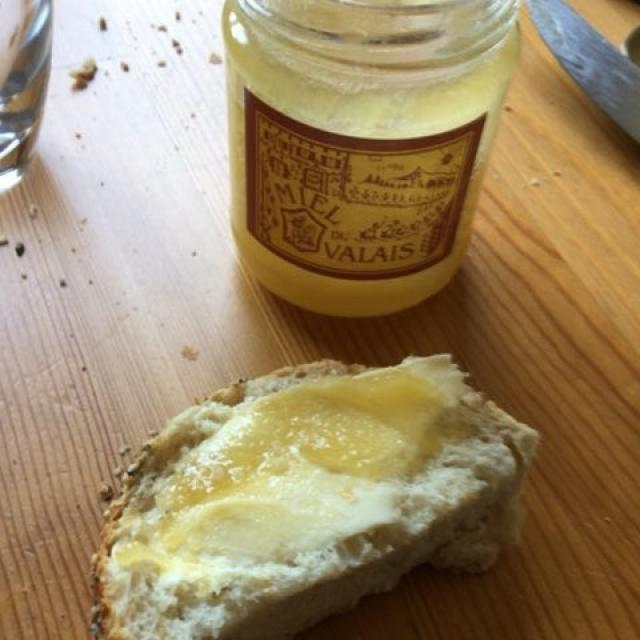bread: (99, 361, 537, 635)
honey: (119, 366, 447, 563)
